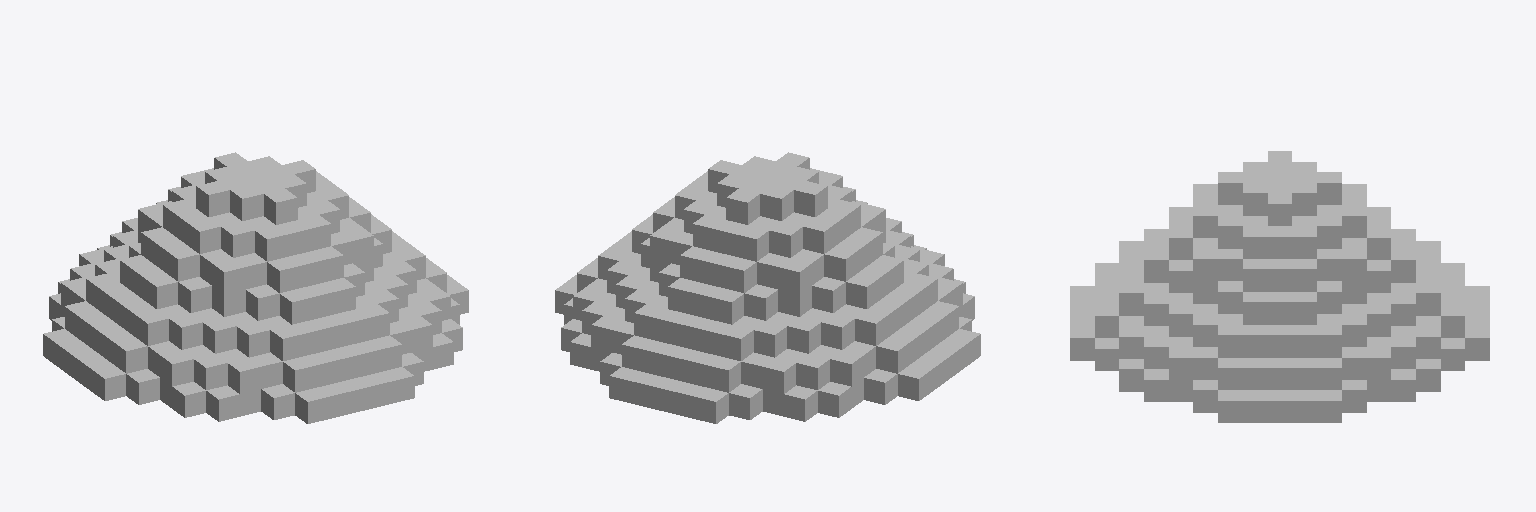
The model's file is ladder.obj.
3 renders of one model, left to right at view 1: azimuth 30°, elevation 25°; view 2: azimuth 150°, elevation 25°; view 3: azimuth 270°, elevation 25°, orthographic.
Visible parts, largest first — view 1: ladder; view 2: ladder; view 3: ladder.
Part boxes in pixels (left/top/right/bottom): ladder: left=43, top=152, right=468, bottom=423; ladder: left=555, top=152, right=980, bottom=423; ladder: left=1070, top=151, right=1489, bottom=422.
Bounding box in the file's own units: 17 × 7 × 17.